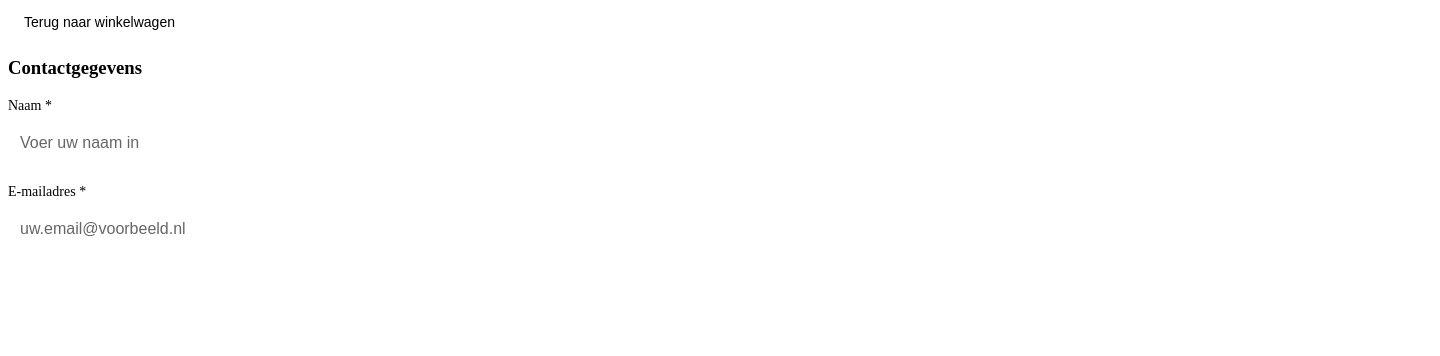
it: OrderForm › email validation › should show error for invalid email format
Type "invalid-email" into the field labelled "E-mailadres *" at (720, 229), box [8, 208, 1432, 250]
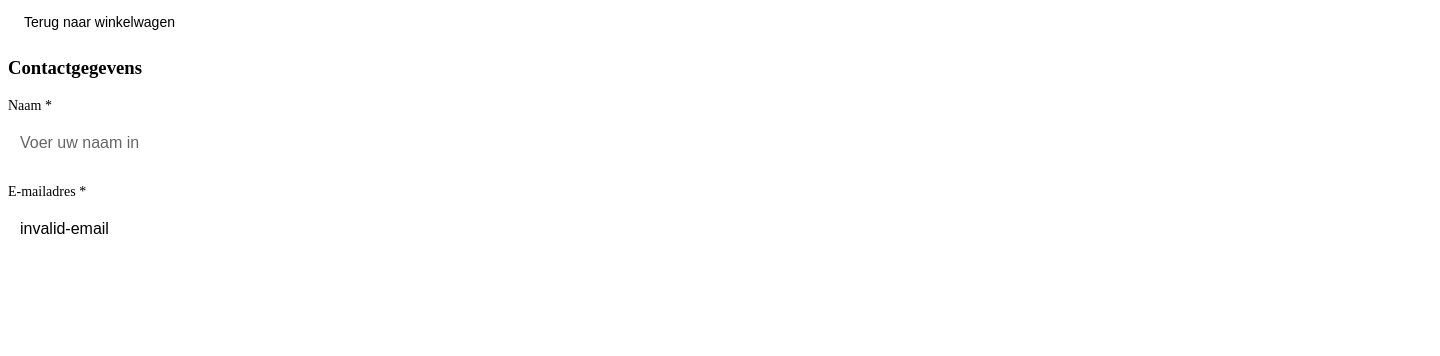
Press Tab
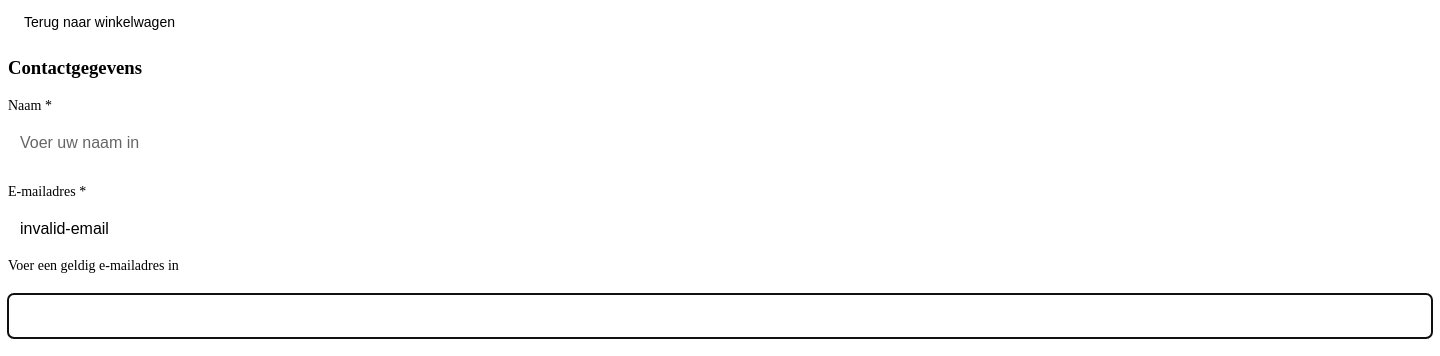
Expected: the text "Voer een geldig e-mailadres in" is shown, [8, 258, 179, 273]
